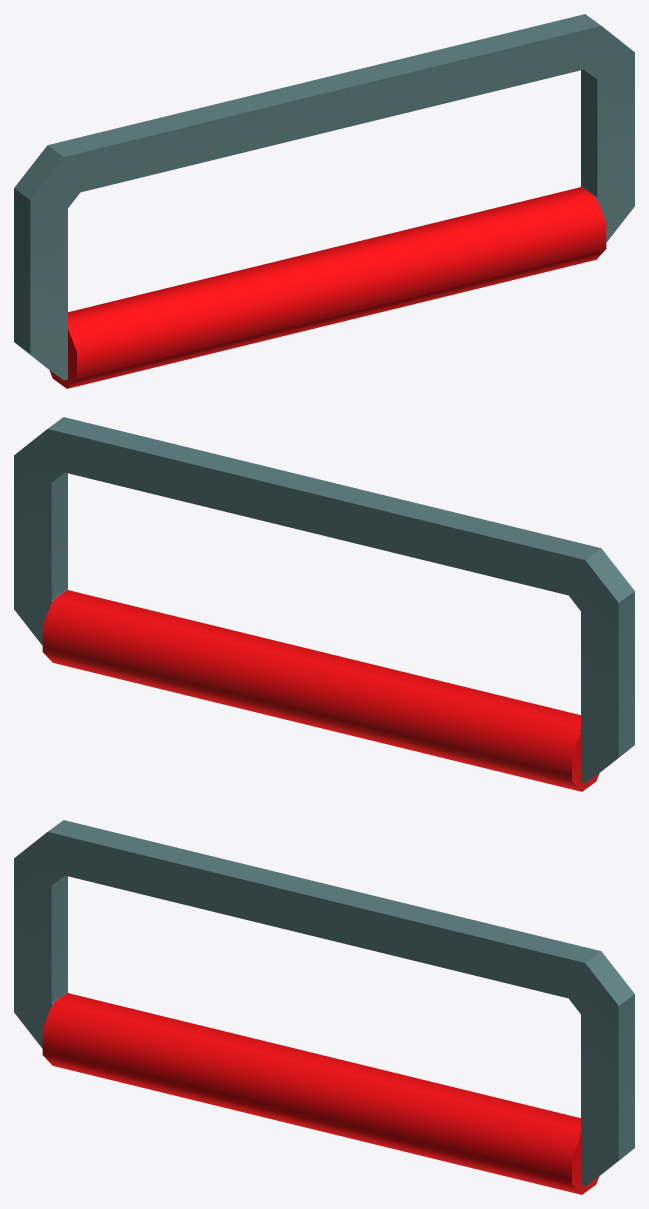
The model's file is Container_09_Handle.fbx.
3 views of the same model, one above another, from view 1: azimuth 30°, elevation 25°; view 2: azimuth 150°, elevation 25°; view 3: azimuth 330°, elevation 25° (orthographic).
Parts seen in each view (by area): view 1: Container_09_Handle; view 2: Container_09_Handle; view 3: Container_09_Handle.
Boxes of the visible parts, box(x1,y1,x2,y2) form: Container_09_Handle: box(14, 14, 634, 388); Container_09_Handle: box(14, 417, 634, 791); Container_09_Handle: box(14, 820, 634, 1194).
Size of the model in its own units: 20.91 by 7.72 by 2.07.
